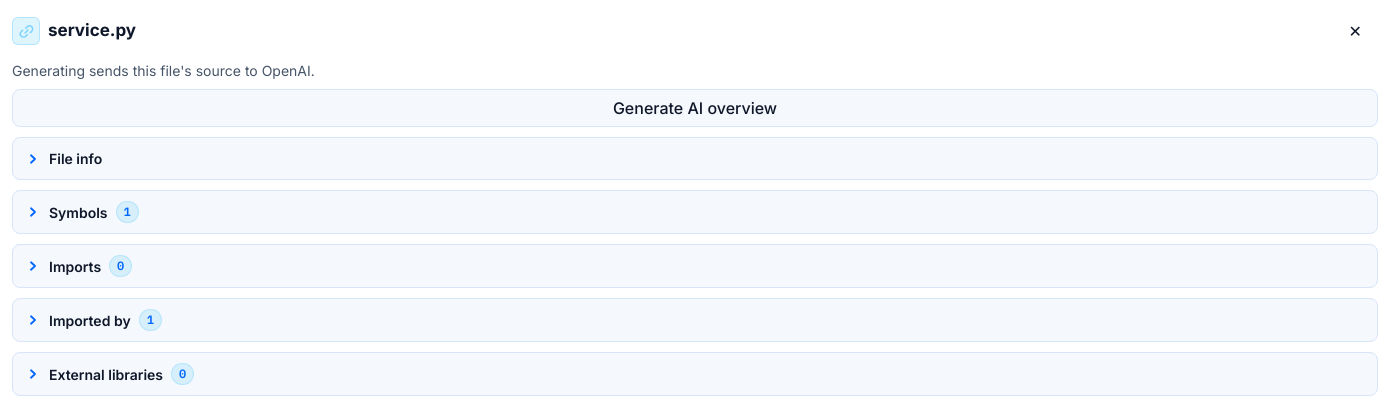
Scenario: AI File Overview integration › leaves file details usable while generation is pending
Click the button "Generate AI overview": [695, 108] box [12,89,1378,127]
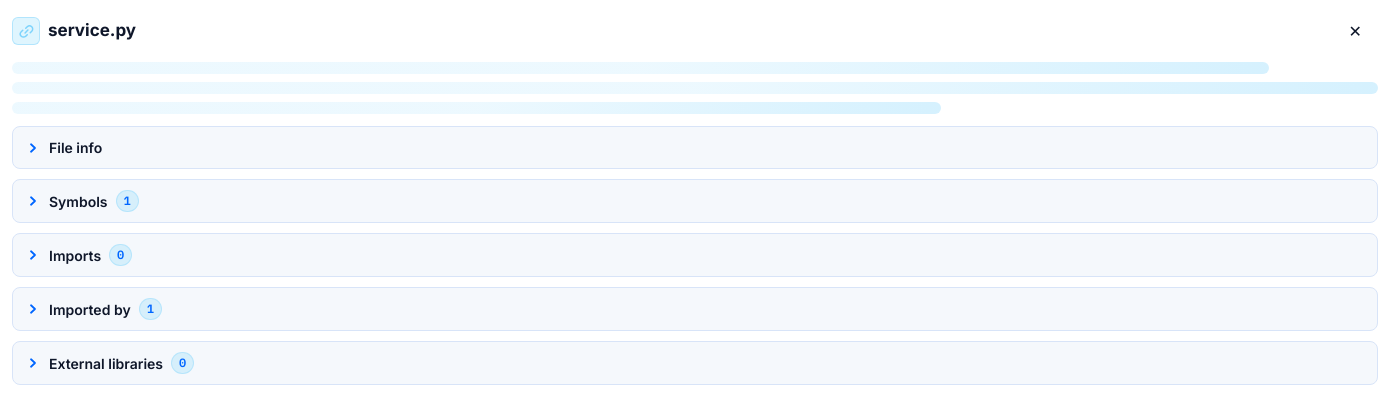
Expected: the heading "service.py" is shown, [48,18,136,44]
Expected: the message named "Generating AI overview" is shown, [12,60,1378,116]
